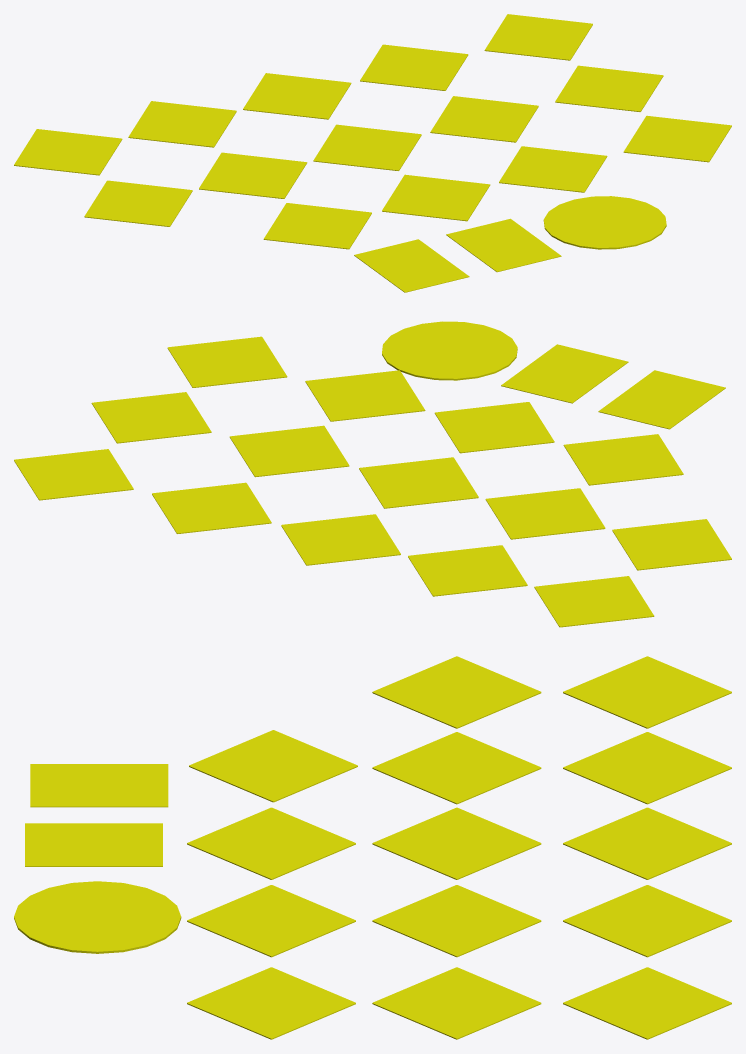
File: Caution Signs 2.fbx
3 views of the same model, one above another, from view 1: azimuth 30°, elevation 25°; view 2: azimuth 150°, elevation 25°; view 3: azimuth 270°, elevation 25° (orthographic). The views are drawn at different scales.
Parts seen in each view (by area): view 1: pCylinder2, pCube29, pCube21, pCube1, pCube26, pCube24, pCube20, pCube23, pCube34, pCube28, pCube30, pCube33 (+5 smaller); view 2: pCylinder2, pCube27, pCube20, pCube29, pCube21, pCube1, pCube30, pCube25, pCube28, pCube33, pCube26, pCube24 (+5 smaller); view 3: pCylinder2, pCube24, pCube25, pCube1, pCube33, pCube27, pCube23, pCube26, pCube28, pCube34, pCube30, pCube29 (+5 smaller).
Boxes of the visible parts, box(x1,y1,x2,y2) form: pCylinder2: box(543, 196, 666, 249); pCube29: box(499, 146, 607, 192); pCube21: box(243, 73, 351, 119); pCube1: box(14, 129, 122, 175); pCube26: box(84, 180, 192, 226); pCube24: box(430, 96, 538, 142); pCube20: box(128, 101, 236, 147); pCube23: box(484, 14, 592, 60); pCube34: box(382, 174, 490, 221); pCube28: box(555, 65, 663, 111); pCube30: box(263, 203, 371, 249); pCube33: box(623, 115, 731, 162); pCylinder2: box(382, 321, 517, 380); pCube27: box(485, 488, 605, 539); pCube20: box(408, 545, 527, 596); pCube29: box(305, 370, 425, 421); pCube21: box(281, 514, 400, 565); pCube1: box(534, 576, 654, 627); pCube30: box(563, 434, 683, 485); pCube25: box(359, 457, 478, 508); pCube28: box(91, 392, 211, 443); pCube33: box(167, 336, 287, 387); pCube26: box(612, 519, 731, 570); pCube24: box(229, 425, 349, 477); pCylinder2: box(14, 881, 181, 953); pCube24: box(372, 885, 541, 957); pCube25: box(372, 807, 541, 879); pCube1: box(563, 656, 731, 728); pCube33: box(187, 967, 355, 1039); pCube27: box(372, 732, 541, 804); pCube23: box(563, 967, 731, 1039); pCube26: box(372, 656, 541, 728); pCube28: box(372, 967, 541, 1039); pCube34: box(187, 807, 355, 879); pCube30: box(189, 730, 357, 802); pCube29: box(187, 885, 355, 957).
Size of the model in its own units: 40.16 by 0.2969 by 31.87.
